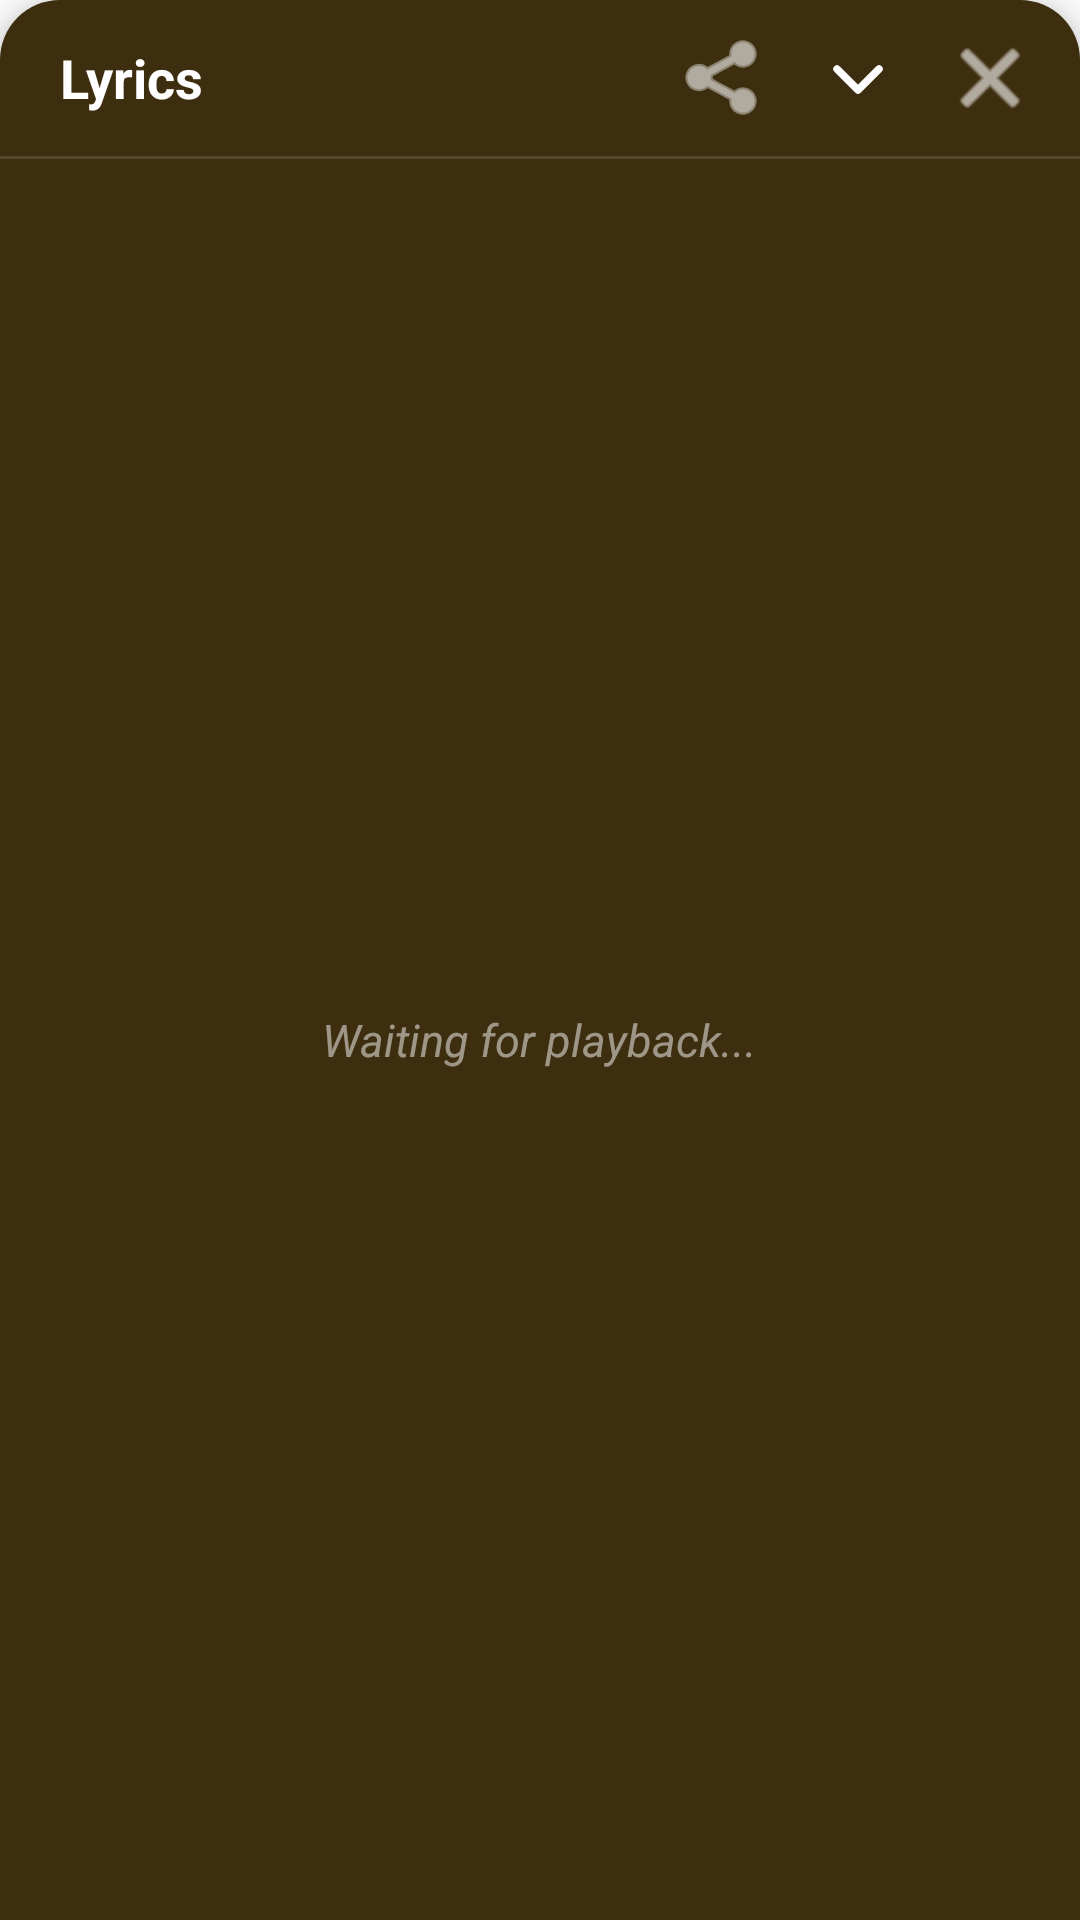

Named icons in this screenshot (1080w x 1920h) and their bounding boxes, rect(x1, y1, x2, y2):
chevron down: rect(833, 65, 883, 94)
close clear cancel: rect(960, 48, 1020, 108)
share: rect(685, 40, 757, 115)
